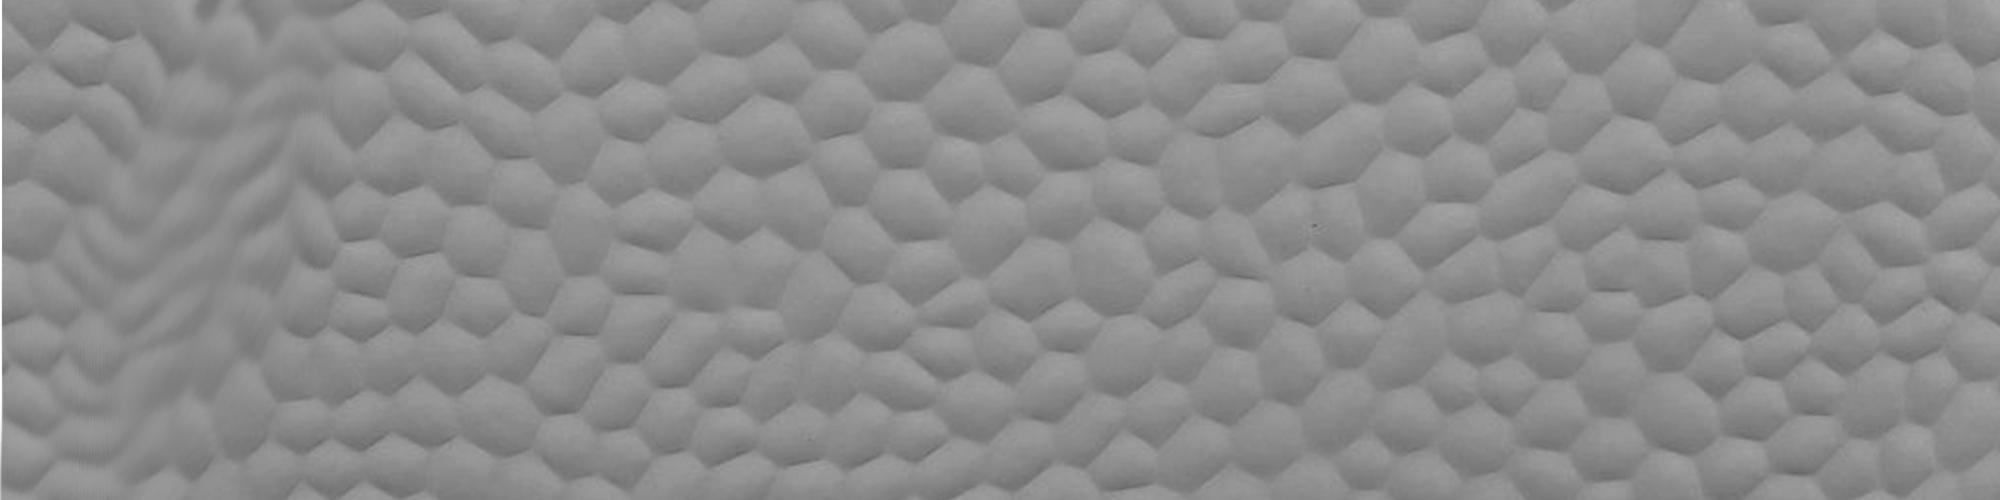Flow_Lines: (68, 19, 293, 496)
